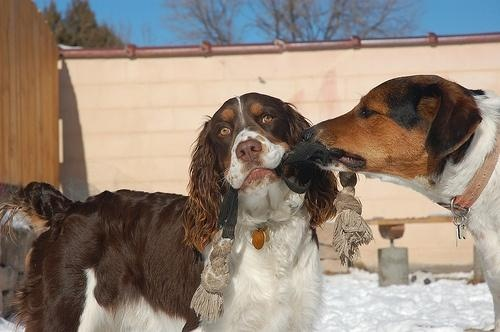dog: (5, 87, 351, 331), (299, 73, 500, 328)
